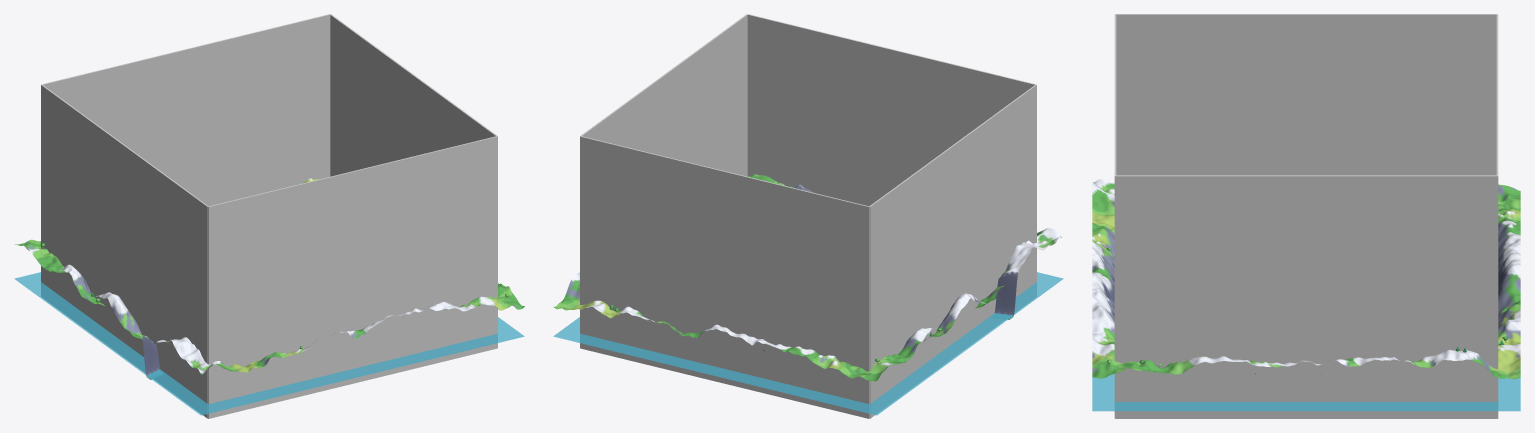
The model's file is world_alpha.glb.
3 views of the same model, side by side, from view 1: azimuth 30°, elevation 25°; view 2: azimuth 150°, elevation 25°; view 3: azimuth 270°, elevation 25° (orthographic). The views are drawn at different scales.
Parts seen in each view (by area): view 1: COL_Props, Water, Terrain; view 2: COL_Props, Water, Terrain; view 3: COL_Props, Terrain, Water.
Boxes of the visible parts, left/top/right/bottom form: COL_Props: left=41, top=14, right=507, bottom=418; Water: left=14, top=272, right=524, bottom=415; Terrain: left=15, top=178, right=524, bottom=379; COL_Props: left=580, top=14, right=1036, bottom=418; Water: left=553, top=272, right=1063, bottom=415; Terrain: left=554, top=174, right=1062, bottom=381; COL_Props: left=1108, top=14, right=1506, bottom=418; Terrain: left=1092, top=179, right=1520, bottom=379; Water: left=1092, top=374, right=1520, bottom=411.
Bounding box in the file's own units: 480 × 300 × 480.
